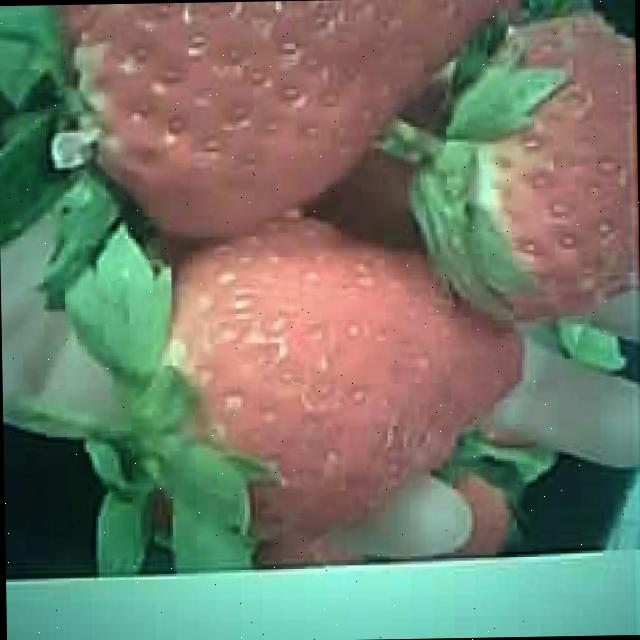strawberry: (152, 213, 532, 542), (55, 0, 499, 236)
